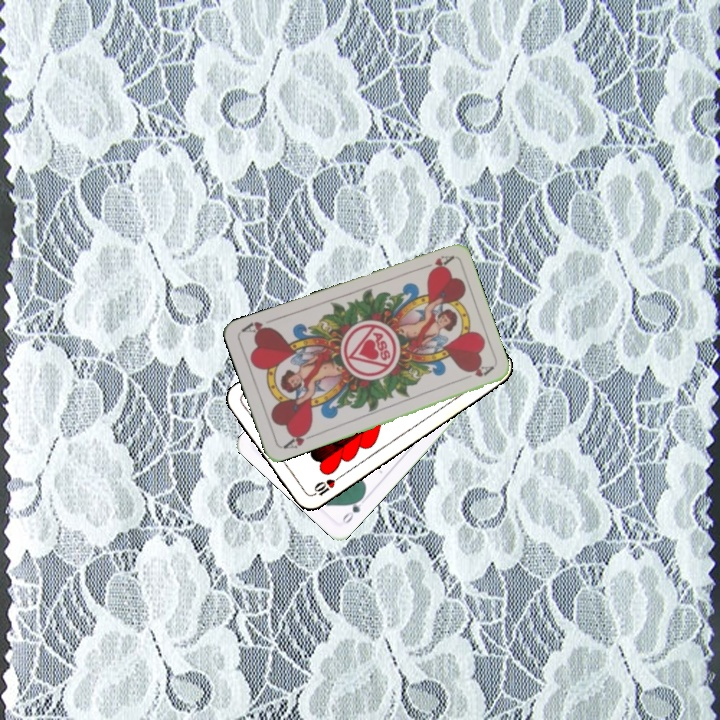GO: (337, 491, 367, 526)
H10: (307, 471, 344, 499)
HA: (279, 425, 317, 452), (416, 251, 455, 276)
